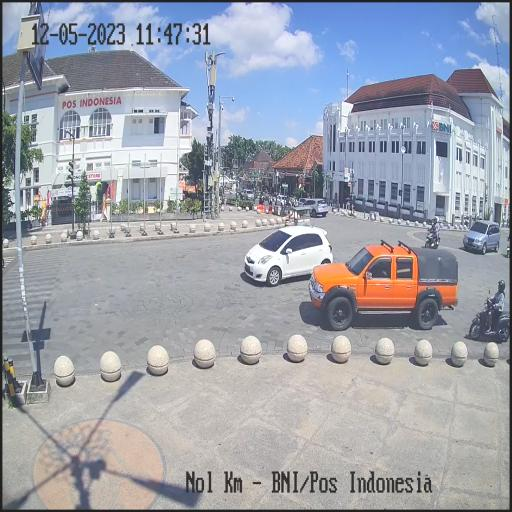mobil: (309, 242, 459, 334), (241, 224, 335, 288), (463, 218, 501, 256)
motor: (467, 286, 511, 346), (425, 222, 440, 250)
